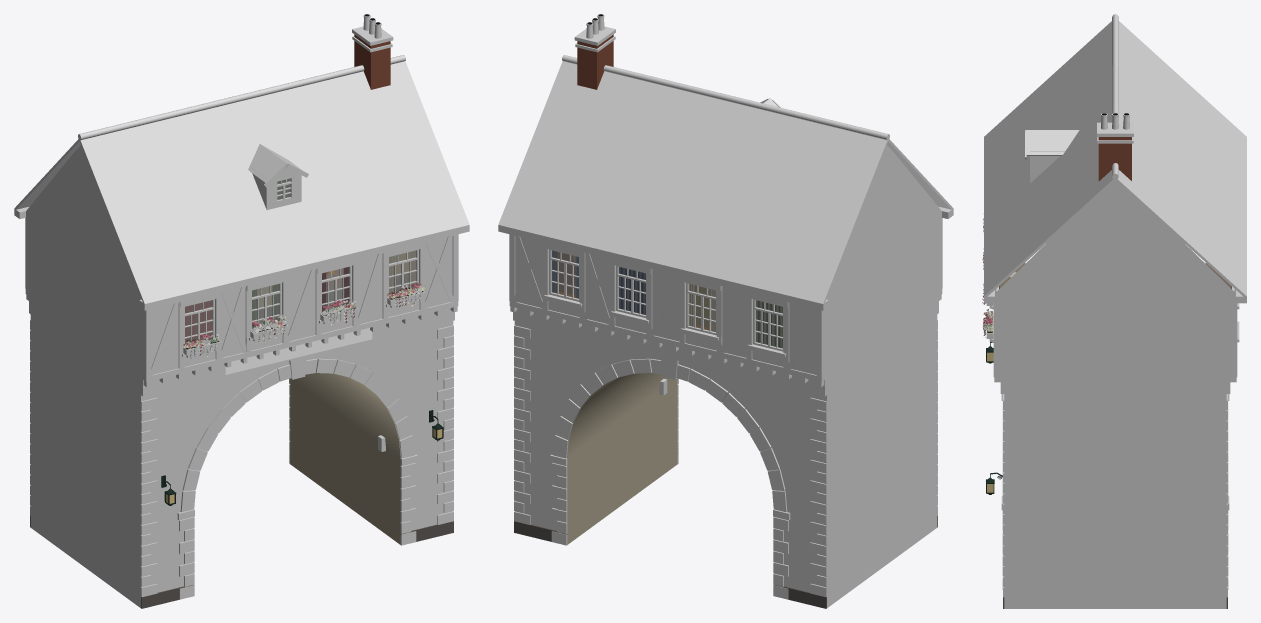
File: GateStreet_Gatehouse.glb
3 views of the same model, side by side, from view 1: azimuth 30°, elevation 25°; view 2: azimuth 150°, elevation 25°; view 3: azimuth 270°, elevation 25° (orthographic).
Parts seen in each view (by area): view 1: GateStreet_Gatehouse; view 2: GateStreet_Gatehouse; view 3: GateStreet_Gatehouse.
Part boxes in pixels (<box>): GateStreet_Gatehouse: <box>14,14,469,608</box>; GateStreet_Gatehouse: <box>498,14,953,608</box>; GateStreet_Gatehouse: <box>982,14,1246,608</box>.
Bounding box in the file's own units: 10.2 × 14.36 × 7.15.
